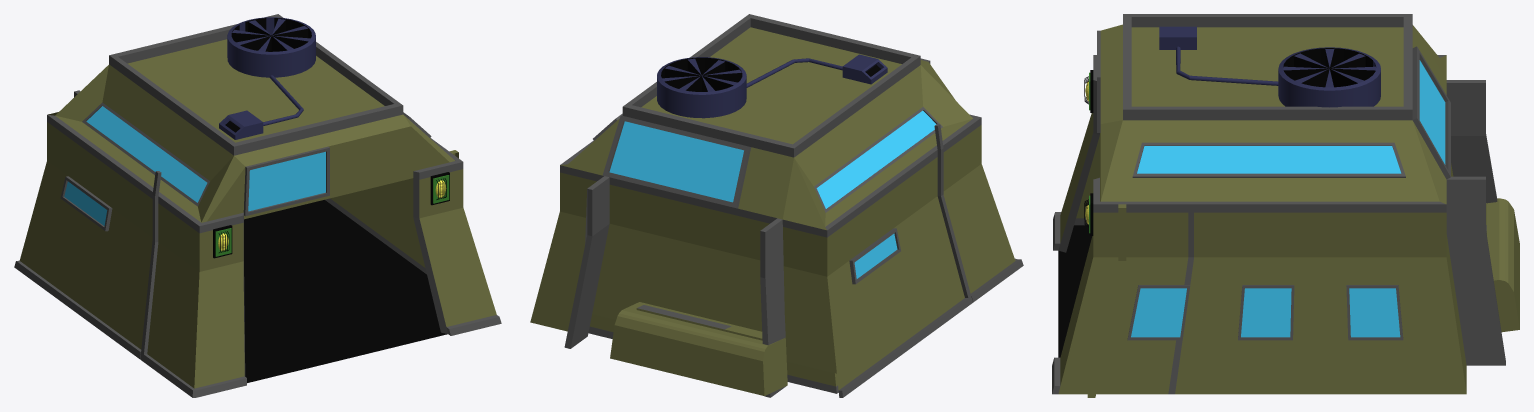
The picture shows the model from 3 angles, left to right: view 1: azimuth 30°, elevation 25°; view 2: azimuth 150°, elevation 25°; view 3: azimuth 270°, elevation 25°; orthographic projection. The views are drawn at different scales.
Visible parts, largest first — view 1: Plane, Cylinder, Cylinder.012, Cube; view 2: Plane, Cylinder, Cylinder.012, Cube, Cylinder.001; view 3: Plane, Cylinder, Cylinder.012, Cube, Cylinder.001.
Boxes of the visible parts, x1,y1,x2,y2 form: Plane: [14, 14, 501, 397]; Cylinder: [227, 17, 315, 77]; Cylinder.012: [232, 19, 310, 51]; Cube: [219, 110, 263, 139]; Plane: [530, 14, 1023, 397]; Cylinder: [657, 57, 746, 118]; Cylinder.012: [662, 58, 741, 91]; Cube: [842, 54, 887, 84]; Cylinder.001: [746, 58, 842, 87]; Plane: [1052, 14, 1519, 397]; Cylinder: [1278, 47, 1380, 107]; Cylinder.012: [1283, 49, 1376, 87]; Cube: [1159, 26, 1196, 49]; Cylinder.001: [1176, 46, 1278, 85].
Size of the model in its own units: 737 by 510 by 818.
